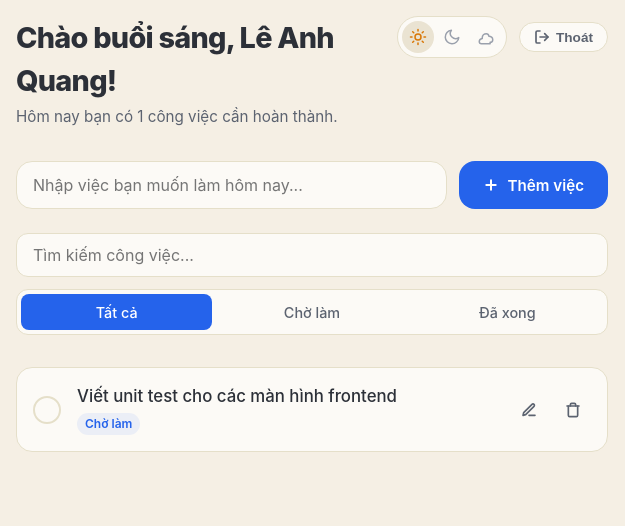
Test: Kiểm thử Giao diện & Tính năng Todo List › Cho phép xóa một công việc khỏi danh sách
This screenshot has width=625, height=526.
Expected: the heading "Chào buổi sáng, Lê Anh Quang!" is shown, [16,20,334,98]
Click the button named "Xóa Viết unit test cho các màn hình frontend" at (573, 410), box [555,392,591,428]
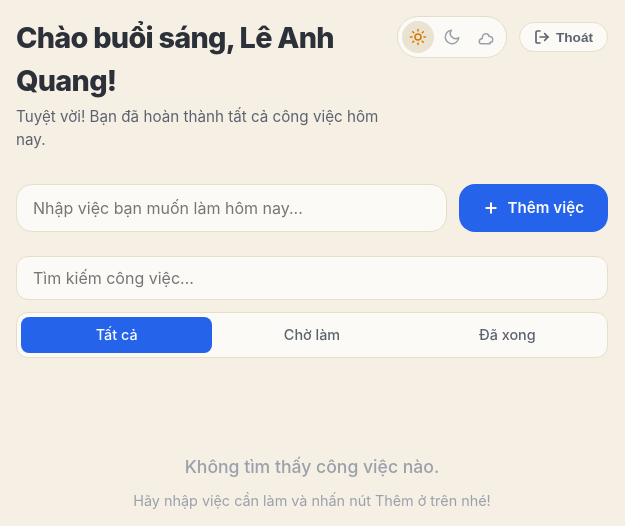
Result: the text "Viết unit test cho các màn hình frontend" is gone
